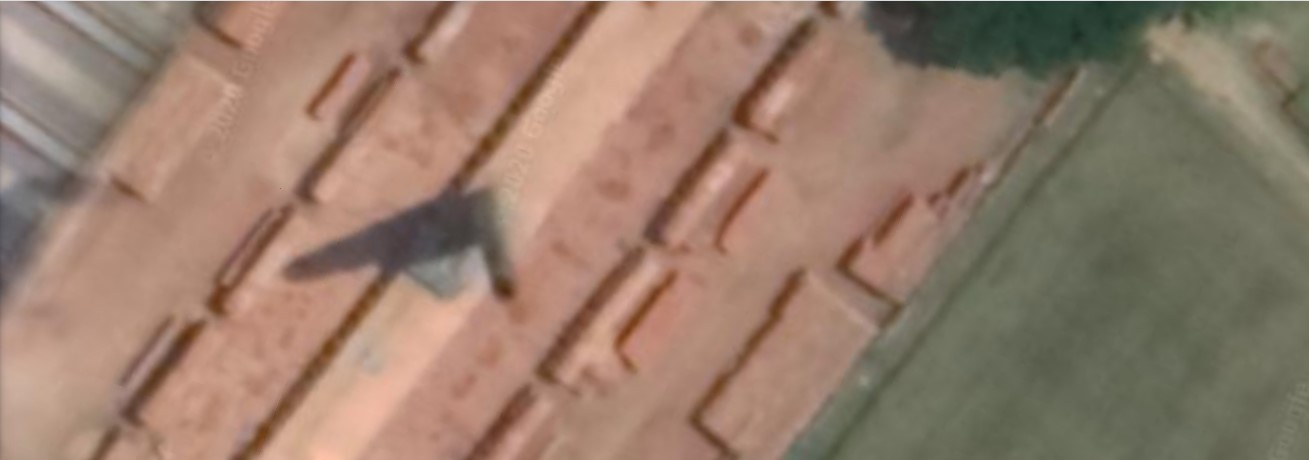kiln: (293, 14, 725, 456)
